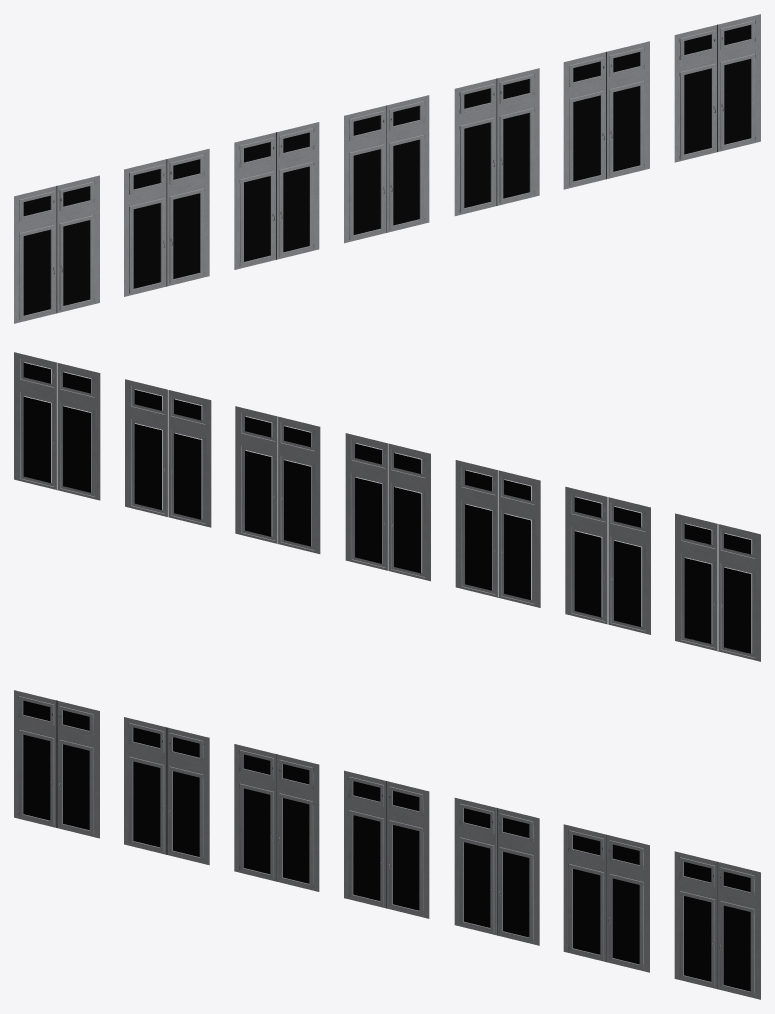
The model's file is windows.dae.
3 views of the same model, one above another, from view 1: azimuth 30°, elevation 25°; view 2: azimuth 150°, elevation 25°; view 3: azimuth 330°, elevation 25° (orthographic).
Parts seen in each view (by area): view 1: SM_Window_06, SM_Window_07, SM_Window_04, SM_Window_02, SM_Window_01, SM_Window_05, SM_Window_03; view 2: SM_Window_06, SM_Window_07, SM_Window_04, SM_Window_02, SM_Window_01, SM_Window_05, SM_Window_03; view 3: SM_Window_06, SM_Window_07, SM_Window_04, SM_Window_02, SM_Window_01, SM_Window_05, SM_Window_03.
Part boxes in pixels (x1,y1,x2,y2): SM_Window_06: (563,41,649,189); SM_Window_07: (674,14,760,162); SM_Window_04: (344,95,429,243); SM_Window_02: (124,148,209,296); SM_Window_01: (14,175,99,323); SM_Window_05: (454,68,539,215); SM_Window_03: (234,122,319,269); SM_Window_06: (125,379,211,527); SM_Window_07: (14,352,100,500); SM_Window_04: (345,433,430,581); SM_Window_02: (565,486,650,634); SM_Window_01: (675,513,760,661); SM_Window_05: (235,406,320,553); SM_Window_03: (455,460,540,607); SM_Window_06: (563,824,649,972); SM_Window_07: (674,851,760,999); SM_Window_04: (344,770,429,918); SM_Window_02: (124,717,209,865); SM_Window_01: (14,690,99,838); SM_Window_05: (454,798,539,945); SM_Window_03: (234,744,319,891).
Bounding box in the file's own units: 18.66 × 0.0875 × 3.04.
5 materials, 2 textured.
